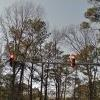Tree: (13, 9, 74, 82)
